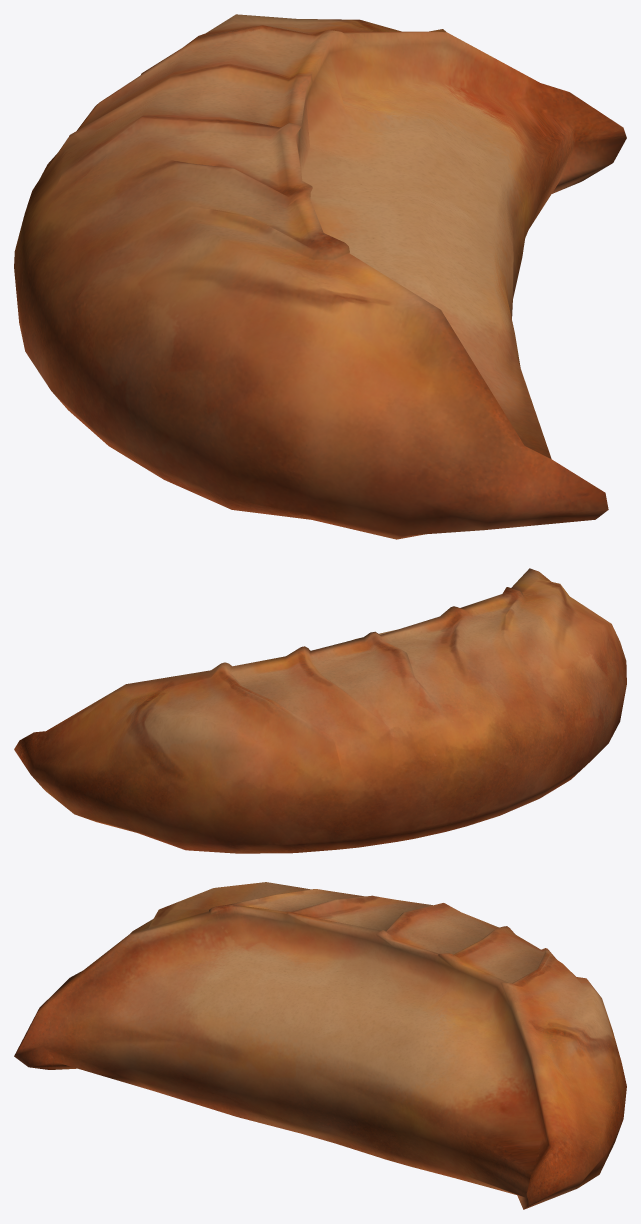
Rendered from free_lonely_lowpoly_gyoza.glb.
3 renders of one model, top to bottom at view 1: azimuth 30°, elevation 25°; view 2: azimuth 150°, elevation 25°; view 3: azimuth 270°, elevation 25°, orthographic. The views are drawn at different scales.
Bounding box in the file's own units: 0.2602 × 0.0926 × 0.3004.
1 material, 1 textured.
